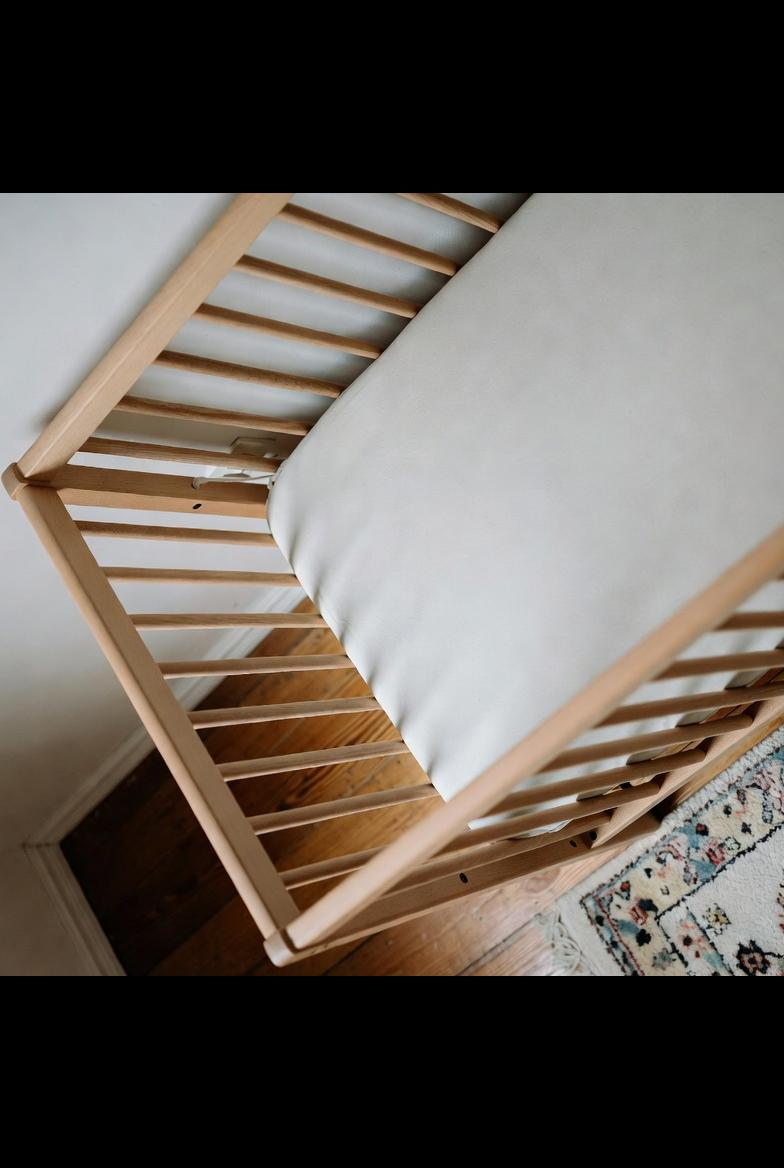crib: (4, 192, 784, 962)
